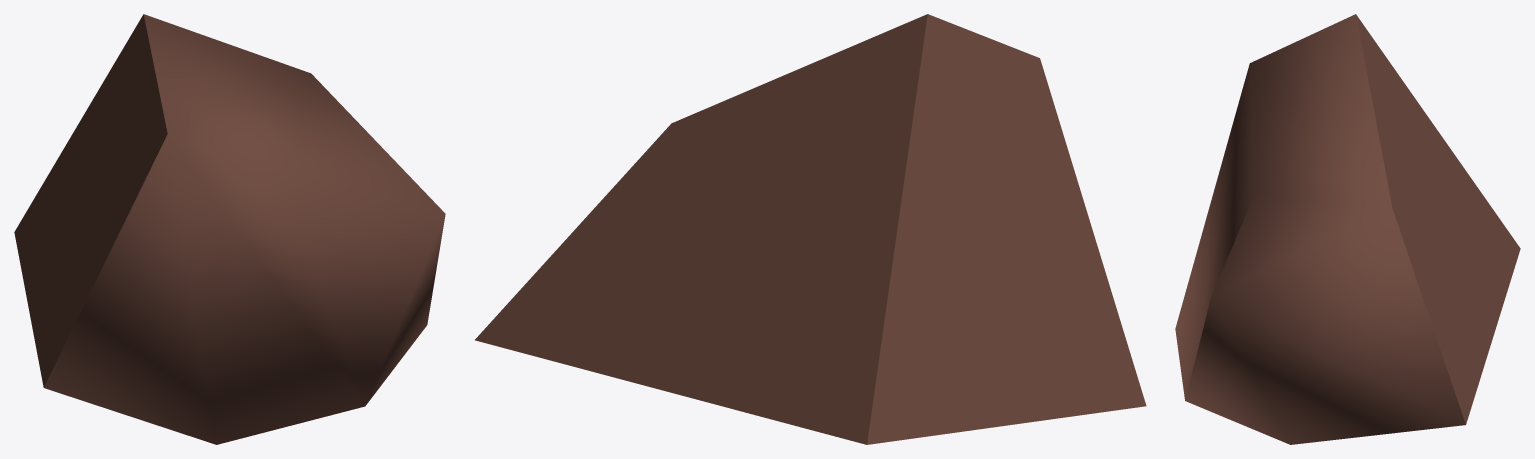
Rendered from p_mesh_hvs_rock_medium01_destruction_part02_col.fbx.
3 renders of one model, left to right at view 1: azimuth 30°, elevation 25°; view 2: azimuth 150°, elevation 25°; view 3: azimuth 270°, elevation 25°, orthographic. The views are drawn at different scales.
Parts seen in each view (by area): view 1: p_medium_destruction_part02_col; view 2: p_medium_destruction_part02_col; view 3: p_medium_destruction_part02_col.
Boxes of the visible parts, x1,y1,x2,y2 form: p_medium_destruction_part02_col: [14, 14, 445, 444]; p_medium_destruction_part02_col: [475, 14, 1146, 444]; p_medium_destruction_part02_col: [1175, 14, 1520, 444].
Bounding box in the file's own units: 6.27 × 4.79 × 4.56.
